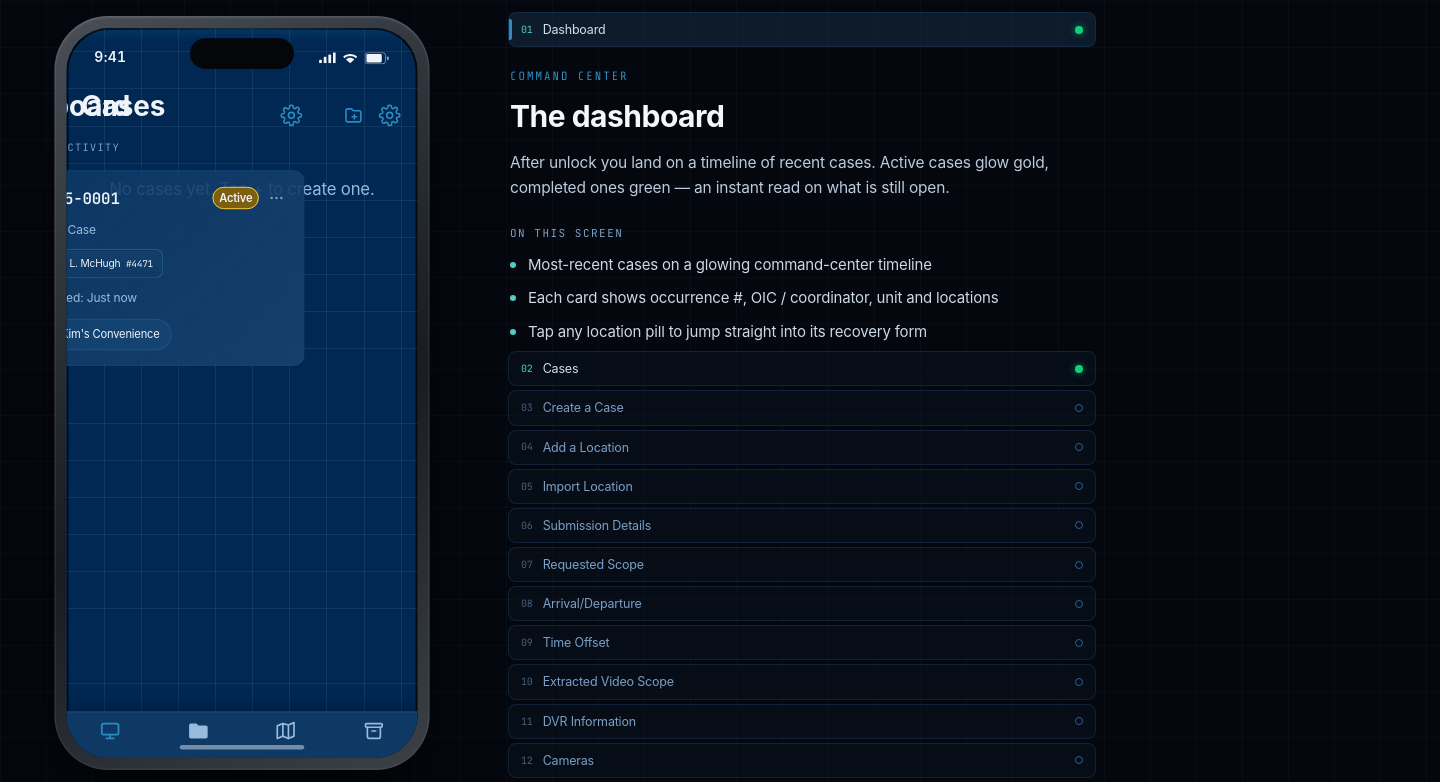
Scenario: Case Actions Sheet — status actions › Archive then Reopen walks the case back to draft, offering the right actions each time
(page scrolled)
Click the button named "Case actions for PR25-0001".
click(276, 198)  # box top-left (264, 186), bottom-right (288, 210)
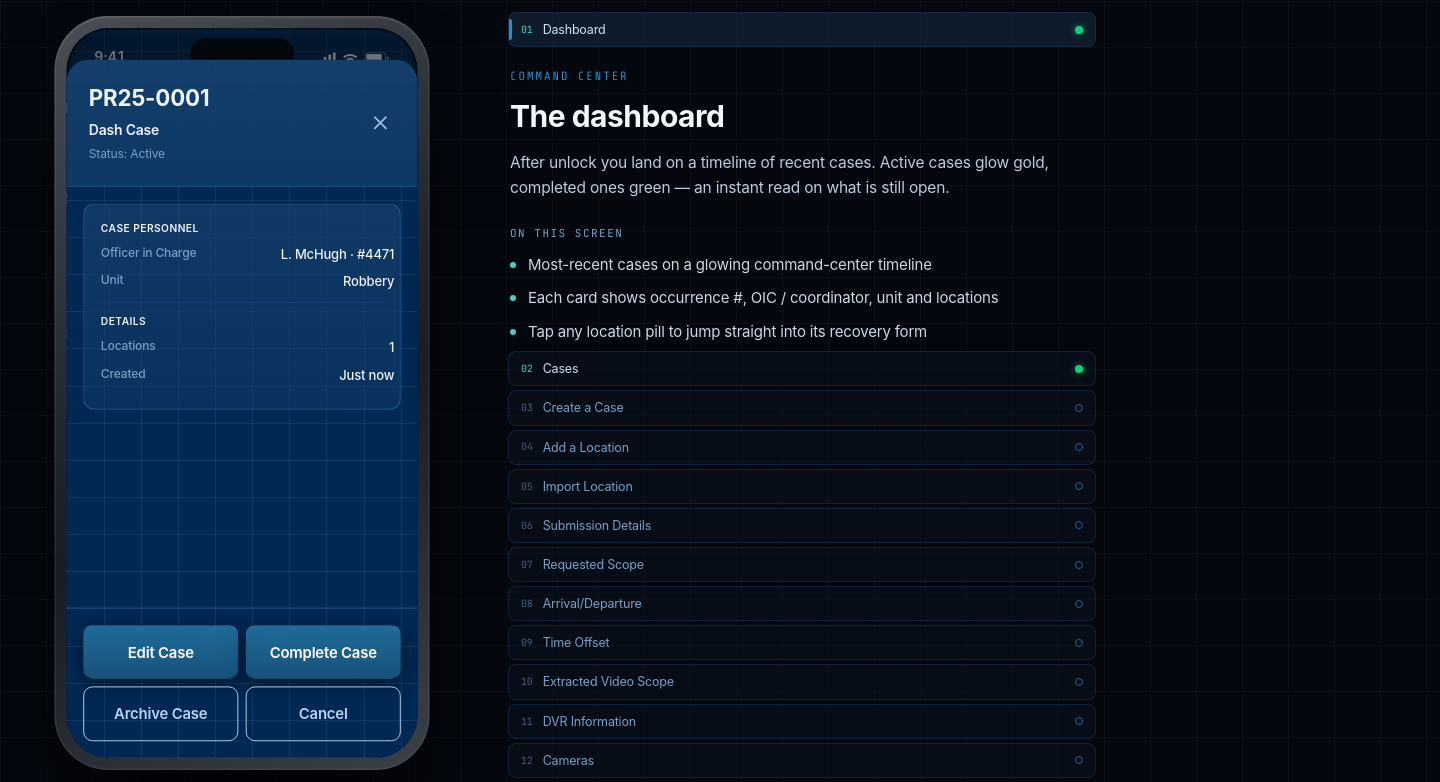
Click the button "Archive Case".
click(161, 714)  # box top-left (83, 687), bottom-right (238, 741)
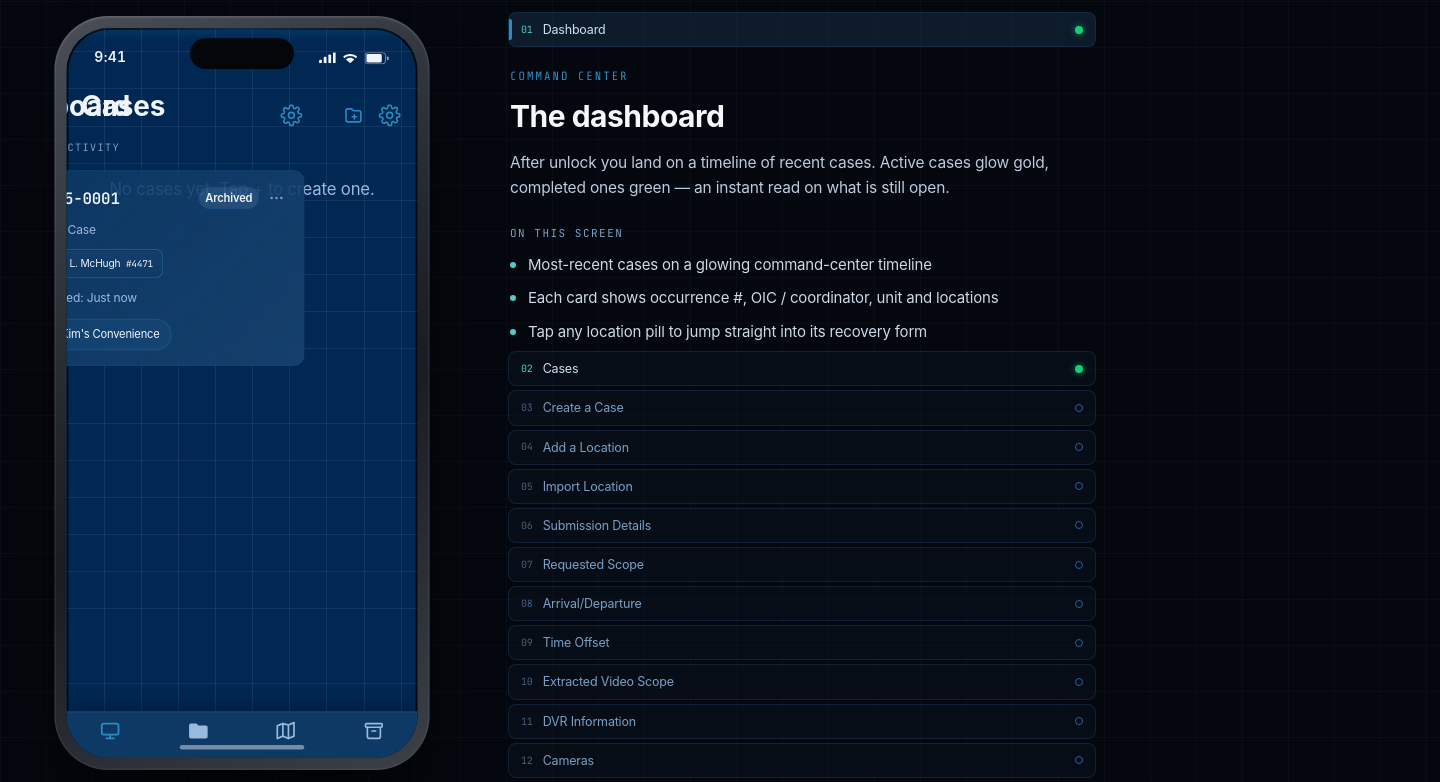
Click the button named "Case actions for PR25-0001".
click(276, 198)  # box top-left (264, 186), bottom-right (288, 210)
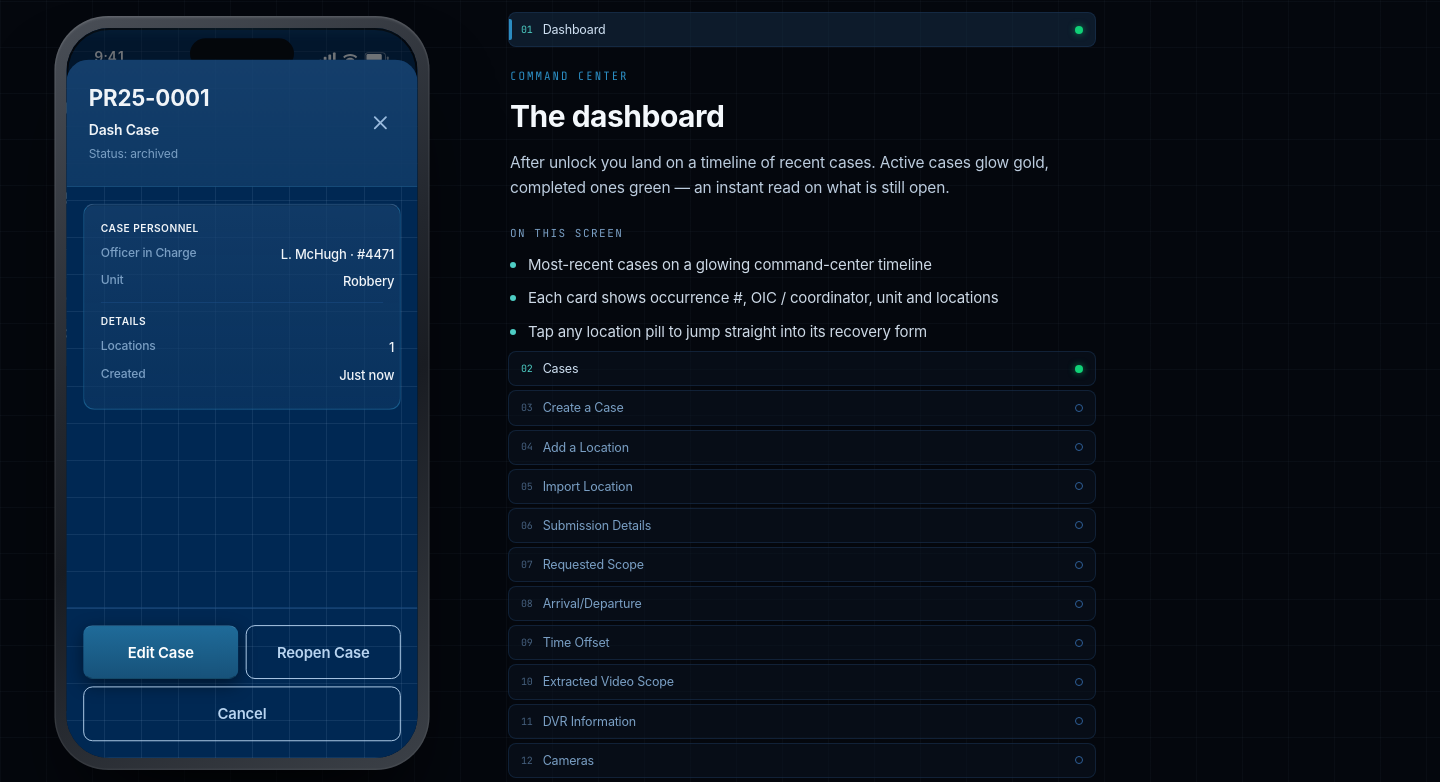
Expected: the button "Complete Case" is not shown
Result: the text "Status: archived" is shown at top-left (89, 146), bottom-right (178, 161)
Click the button "Reopen Case".
click(323, 652)  # box top-left (246, 625), bottom-right (401, 680)
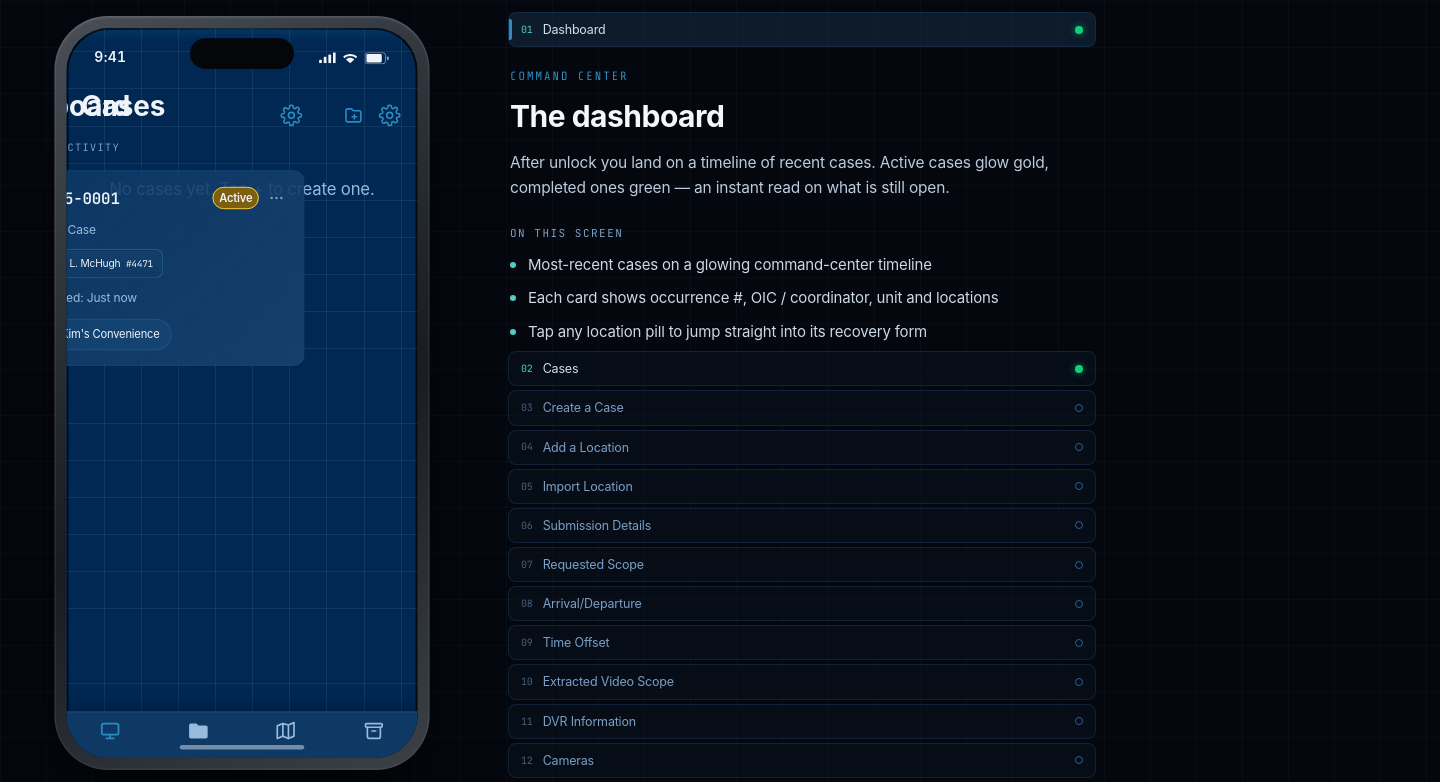
Click the button named "Case actions for PR25-0001".
click(276, 198)  # box top-left (264, 186), bottom-right (288, 210)
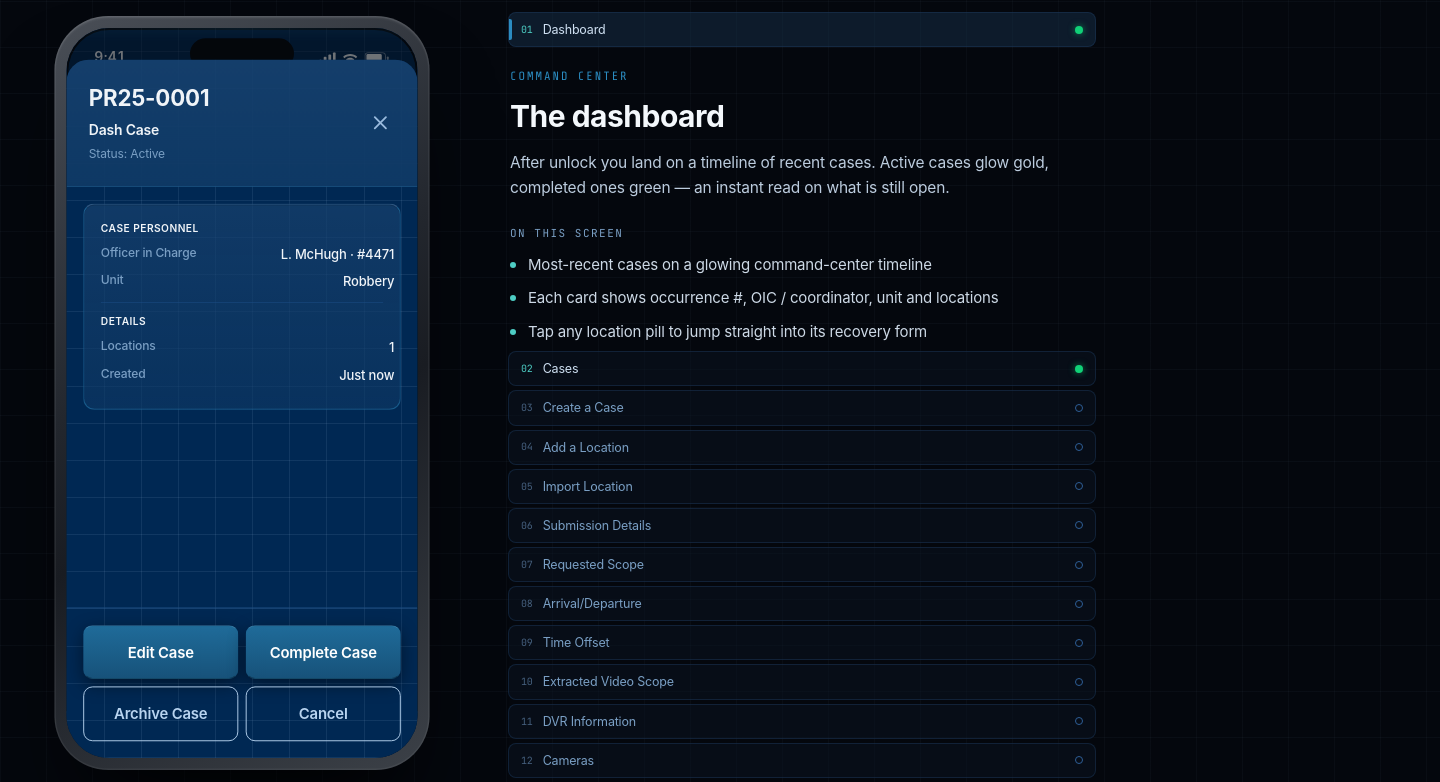
Result: the button "Complete Case" is shown at top-left (246, 625), bottom-right (401, 680)
